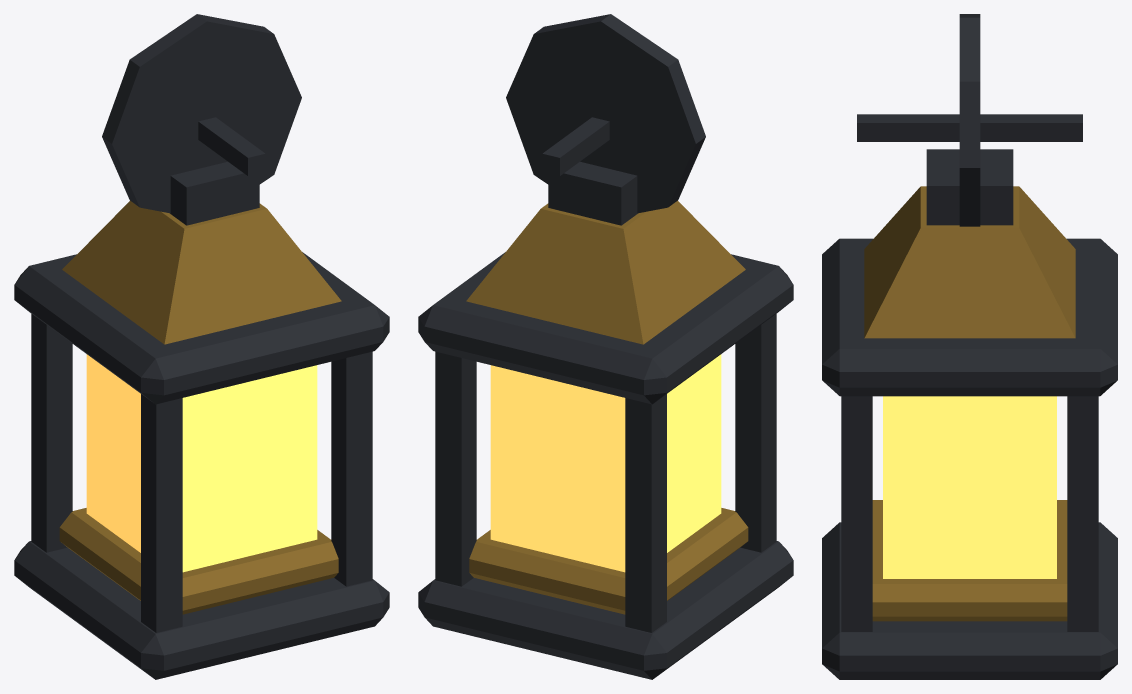
File: lantern.glb
3 views of the same model, side by side, from view 1: azimuth 30°, elevation 25°; view 2: azimuth 150°, elevation 25°; view 3: azimuth 270°, elevation 25° (orthographic). The views are drawn at different scales.
Parts seen in each view (by area): view 1: lantern; view 2: lantern; view 3: lantern.
Boxes of the visible parts, left/top/right/bottom form: lantern: left=14, top=14, right=389, bottom=679; lantern: left=418, top=14, right=793, bottom=679; lantern: left=822, top=14, right=1117, bottom=679.
Size of the model in its own units: 0.17 by 0.385 by 0.17.
